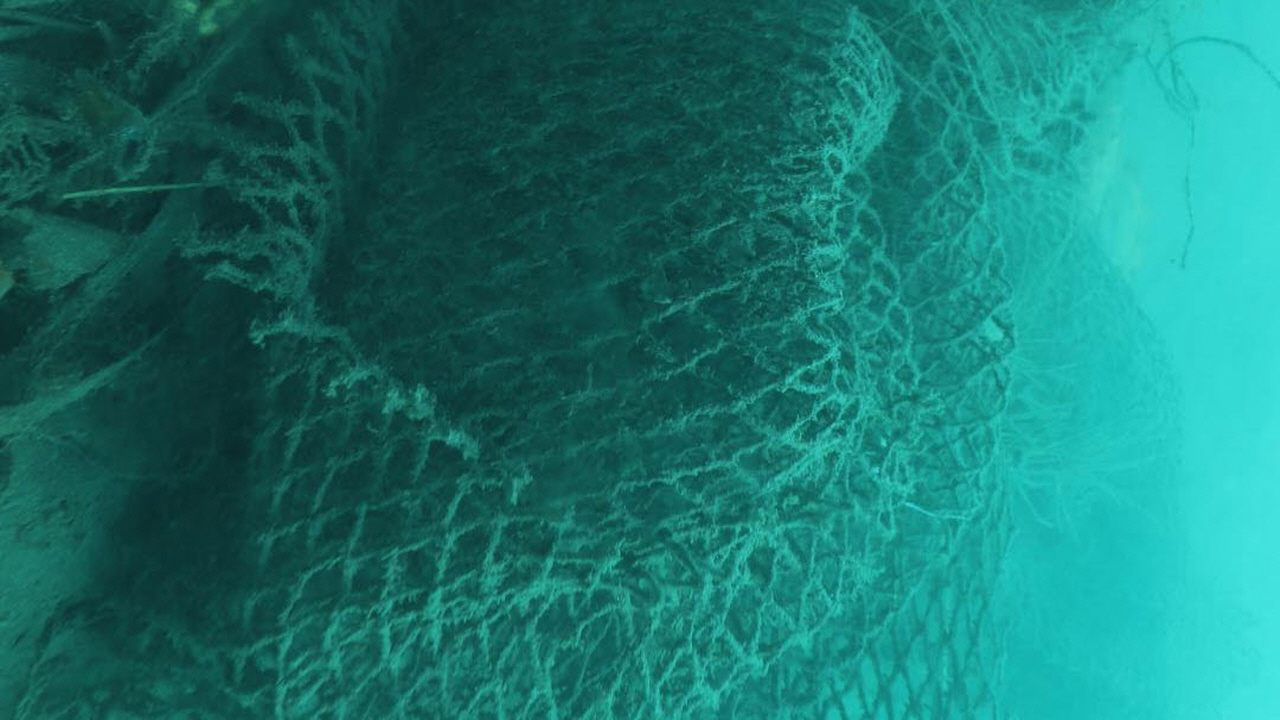fish net: (238, 1, 1017, 720)
